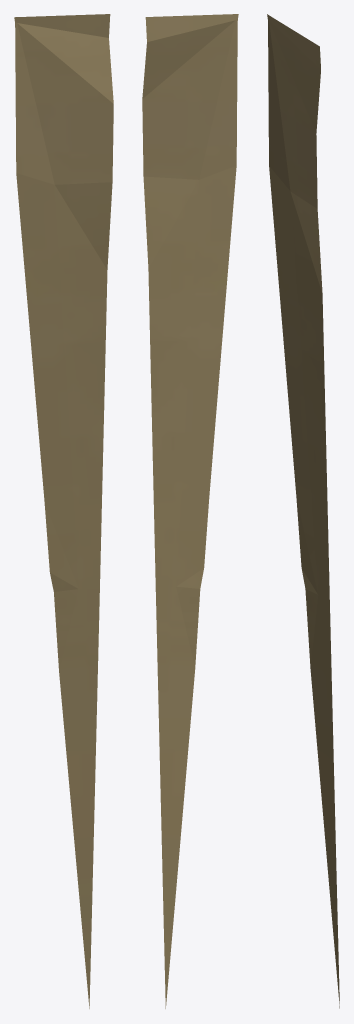
The picture shows the model from 3 angles, left to right: view 1: azimuth 30°, elevation 25°; view 2: azimuth 210°, elevation 25°; view 3: azimuth 330°, elevation 25°; orthographic projection. The views are drawn at different scales.
Bounding box in the file's own units: 0.0436 × 0.5595 × 0.0243.
1 material, 1 textured.
